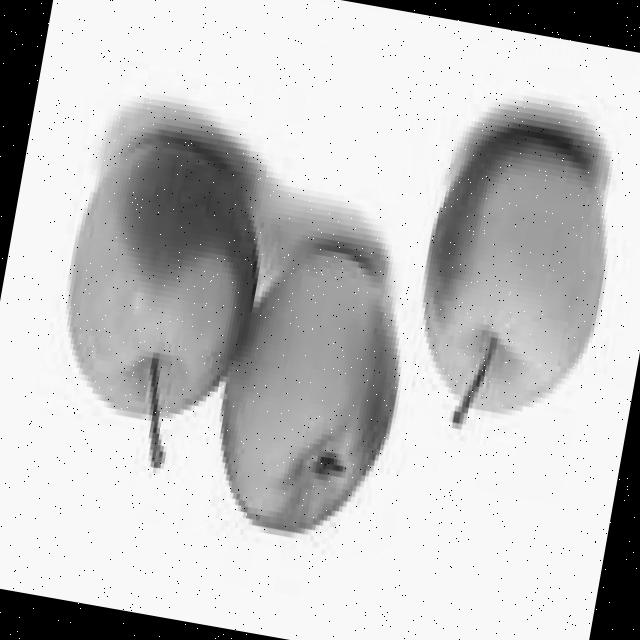apple: (36, 124, 277, 480), (396, 111, 628, 454), (214, 231, 420, 548)
